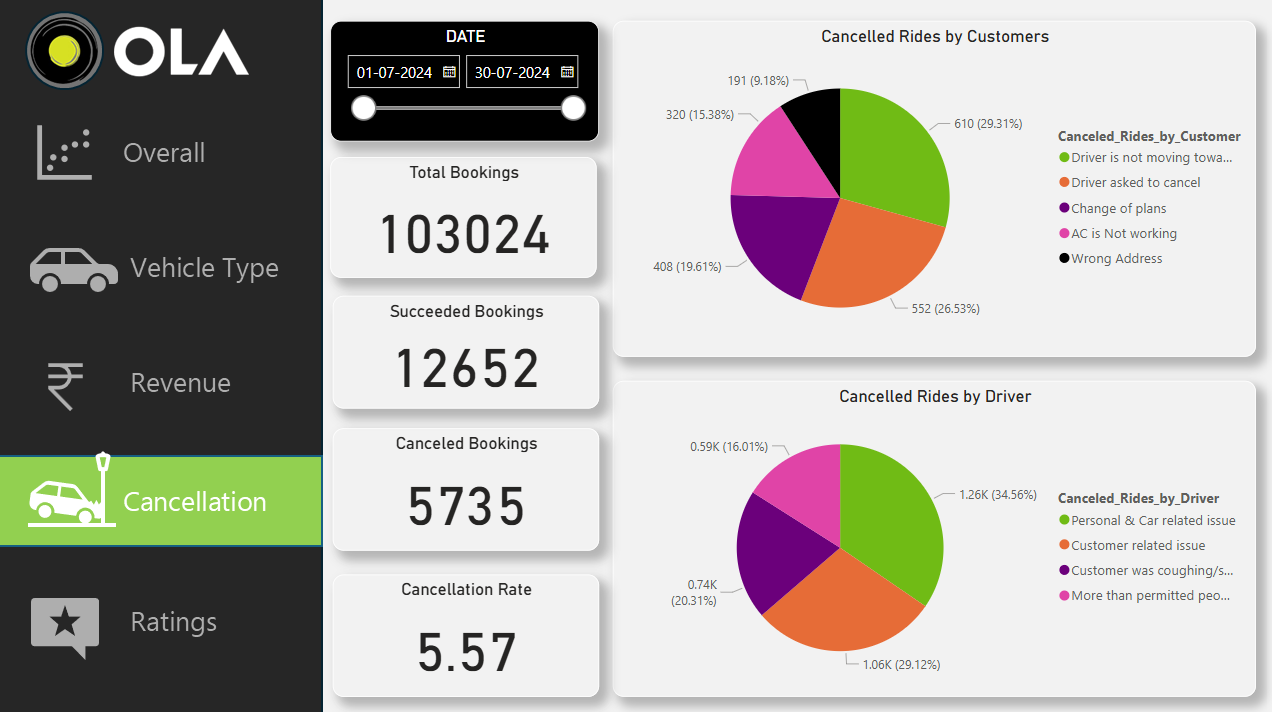

The page's visual inventory and layout, read from the dashboard file:
{"tool":"powerbi","page":{"name":"Cancellation","canvas":[1280,720],"ordinal":3},"visuals":[{"type":"actionButton","box":[0,223.2,326.9,94.1],"z":0},{"type":"actionButton","box":[1.2,111,326.9,98.9],"z":1000},{"type":"actionButton","box":[0,336.6,326.9,95.3],"z":2000},{"type":"actionButton","box":[0,457.2,326.9,96.5],"z":3000},{"type":"actionButton","box":[0,577.9,326.9,92.9],"z":4000},{"type":"pieChart","title":"Cancelled Rides by Customers","fields":{"Category":["Booking_ola.Canceled_Rides_by_Customer"],"Y":["CountNonNull(Booking_ola.Canceled_Rides_by_Customer)"]},"box":[613.4,23.3,643.6,336.2],"z":4001},{"type":"pieChart","title":"Cancelled Rides by Driver","fields":{"Category":["Booking_ola.Canceled_Rides_by_Driver"],"Y":["CountNonNull(Booking_ola.Canceled_Rides_by_Driver)"]},"box":[613.4,384.2,643.6,315.6],"z":4002},{"type":"slicer","title":"DATE","fields":{"Values":["Booking_ola.Date"]},"box":[330.7,23.3,269,120.8],"z":4003},{"type":"card","title":"Total Bookings","fields":{"Values":["CountNonNull(Booking_ola.Booking_ID)"]},"box":[330.7,160.5,266.2,120.8],"z":4004},{"type":"card","title":"Succeeded Bookings","fields":{"Values":["CountNonNull(Booking_ola.Booking_ID)"]},"box":[333.4,299.1,266.2,112.5],"z":4005},{"type":"card","title":"Canceled Bookings","fields":{"Values":["CountNonNull(Booking_ola.Booking_ID)"]},"box":[333.4,430.9,266.2,122.1],"z":4006},{"type":"card","title":"Cancellation Rate","fields":{"Values":["Booking_ola.CanceledPercentage"]},"box":[333.4,577.7,266.2,122.1],"z":4007}]}

Visuals, with their boxes on the page's 1280x720 design canvas (x1, y1, x2, y2). These are canvas units, not pixel positions in the 1272x712 screenshot, which may show the page scaled, cropped or inside an application window:
actionButton: BBox(0, 223, 327, 317)
actionButton: BBox(1, 111, 328, 210)
actionButton: BBox(0, 337, 327, 432)
actionButton: BBox(0, 457, 327, 554)
actionButton: BBox(0, 578, 327, 671)
"Cancelled Rides by Customers" pieChart: BBox(613, 23, 1257, 360)
"Cancelled Rides by Driver" pieChart: BBox(613, 384, 1257, 700)
"DATE" slicer: BBox(331, 23, 600, 144)
"Total Bookings" card: BBox(331, 160, 597, 281)
"Succeeded Bookings" card: BBox(333, 299, 600, 412)
"Canceled Bookings" card: BBox(333, 431, 600, 553)
"Cancellation Rate" card: BBox(333, 578, 600, 700)
